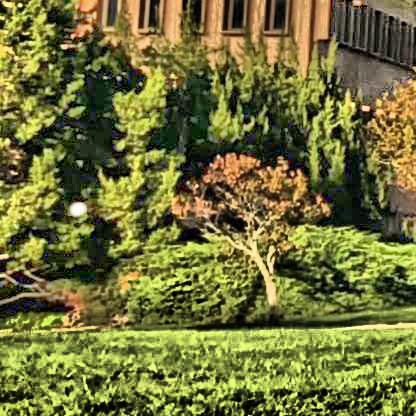golfball: (65, 198, 84, 215)
